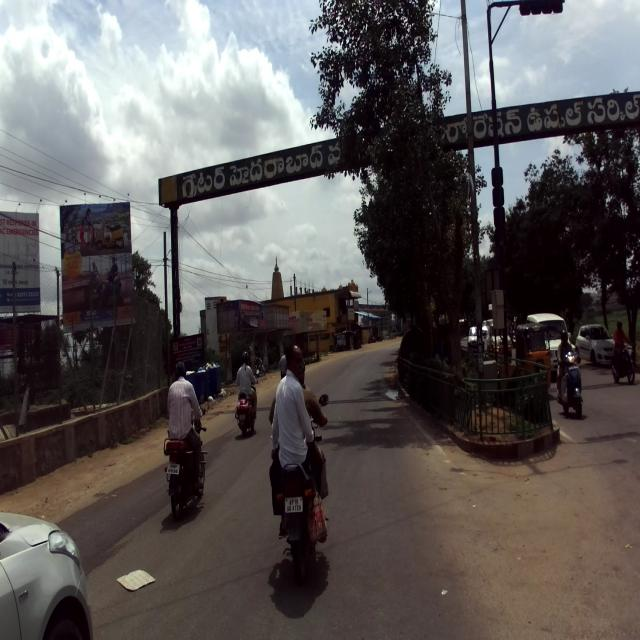car: (0, 505, 92, 638)
motorcycle: (272, 392, 330, 584), (158, 402, 207, 524)
scooter: (555, 347, 584, 417), (233, 368, 260, 437)
